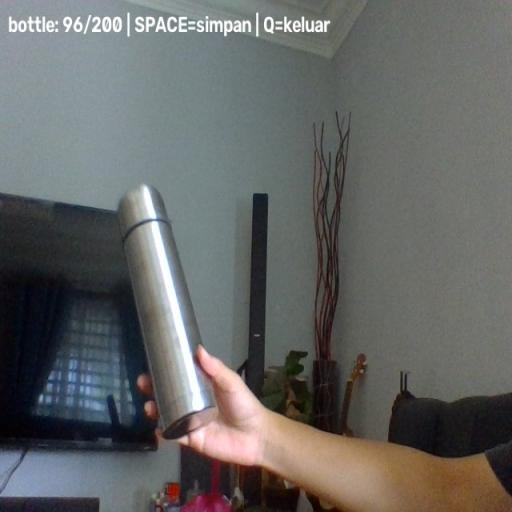Bottle: (116, 184, 220, 438)
